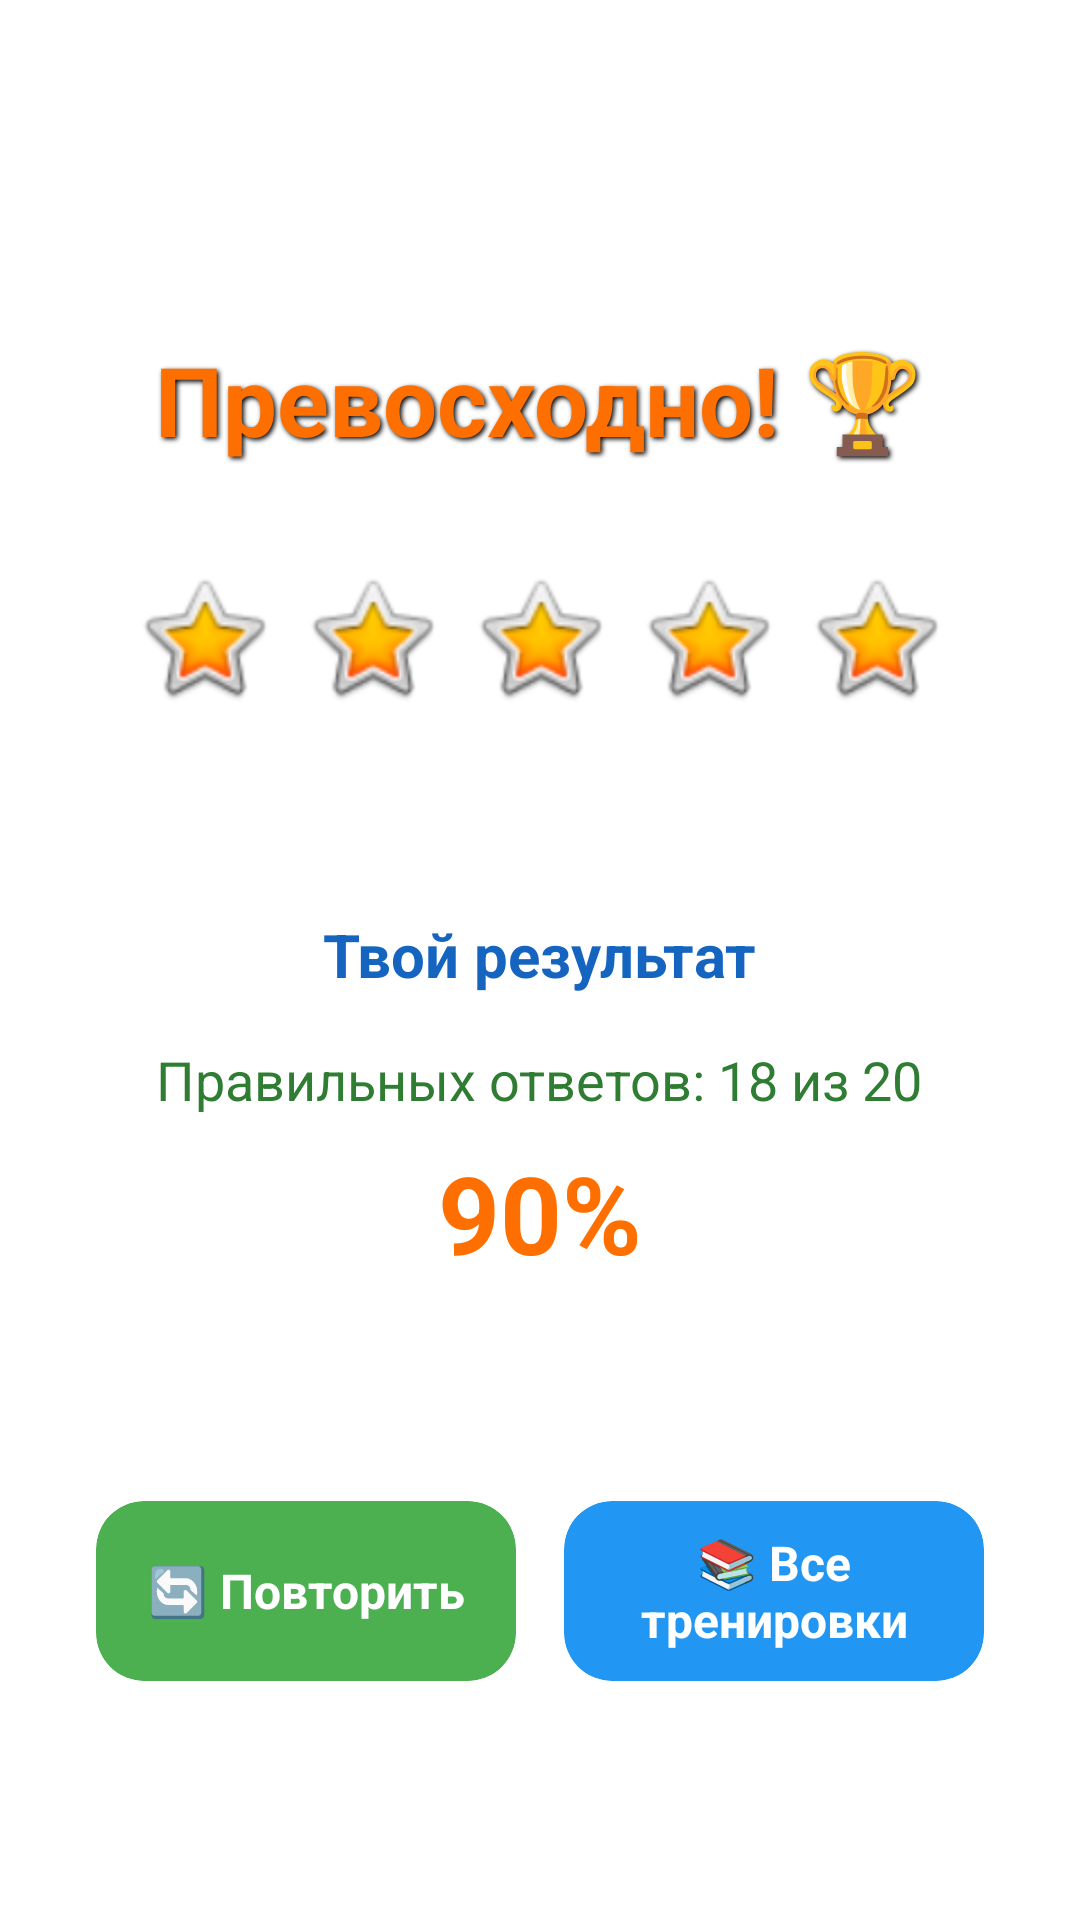

Screen size 1080×1920. Icon name, then its box in pixels as (x1, y1, x2, y2):
star on: (145, 580, 265, 698), (313, 580, 433, 698), (481, 580, 601, 698), (649, 580, 769, 698), (817, 580, 937, 698)
